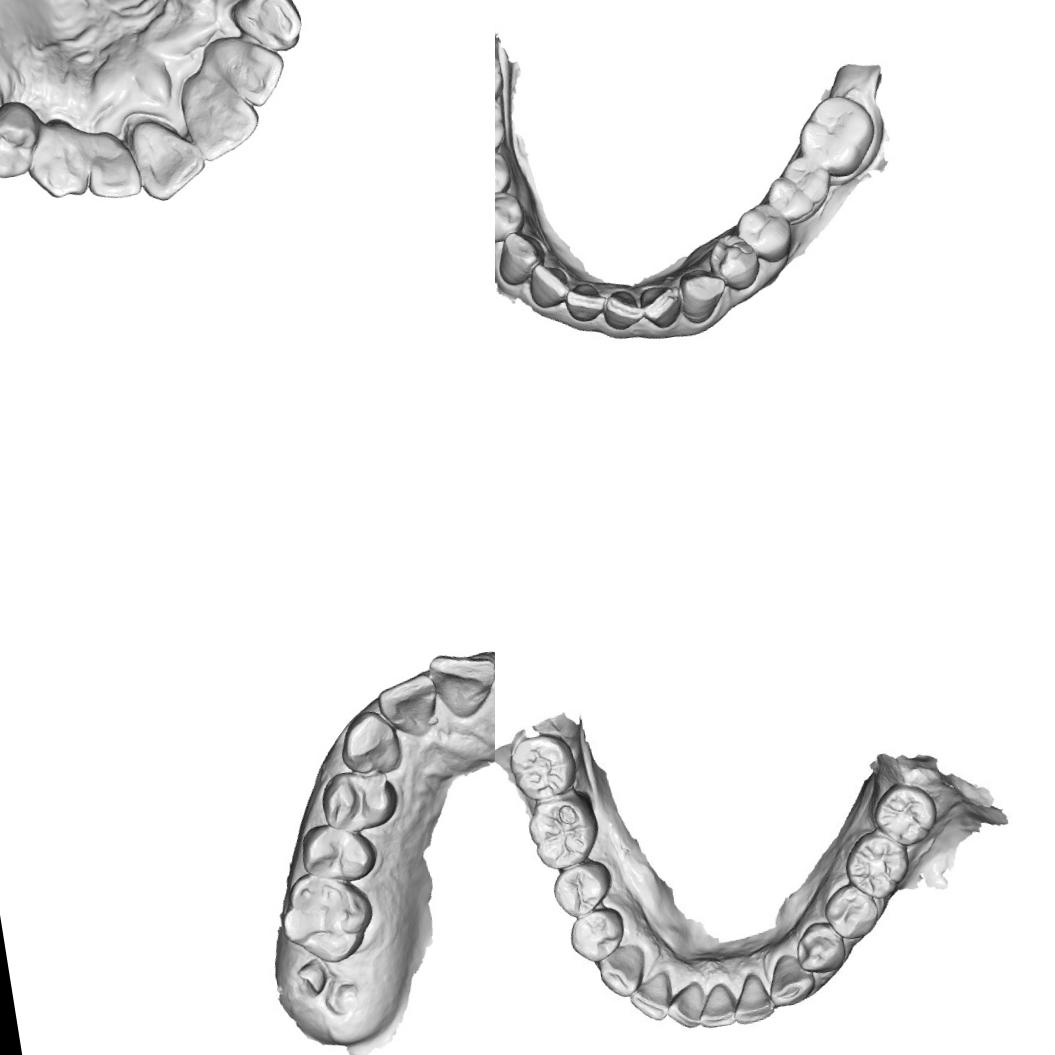canine: (20, 116, 94, 204), (334, 706, 406, 778), (221, 0, 306, 59), (674, 264, 732, 326), (760, 950, 816, 1010), (495, 227, 549, 288), (596, 944, 645, 997)
incisor: (175, 64, 266, 166), (126, 112, 210, 206), (204, 26, 291, 115), (425, 643, 495, 729), (78, 125, 144, 205), (371, 671, 442, 741), (524, 258, 574, 312), (628, 971, 677, 1026), (660, 981, 708, 1033), (730, 970, 773, 1026), (637, 282, 685, 332), (561, 278, 610, 326), (599, 286, 644, 334), (696, 980, 737, 1032)
molar: (272, 864, 381, 972), (792, 90, 881, 182), (523, 789, 602, 866), (761, 152, 837, 226), (870, 780, 938, 848), (509, 731, 572, 801), (846, 832, 909, 896), (495, 87, 510, 156)
premolar: (315, 765, 402, 838), (295, 817, 380, 890), (734, 198, 797, 266), (0, 98, 44, 187), (704, 229, 764, 294), (793, 922, 850, 976), (552, 862, 607, 916), (570, 910, 622, 958), (826, 889, 876, 936), (495, 188, 528, 247), (495, 145, 515, 204)
